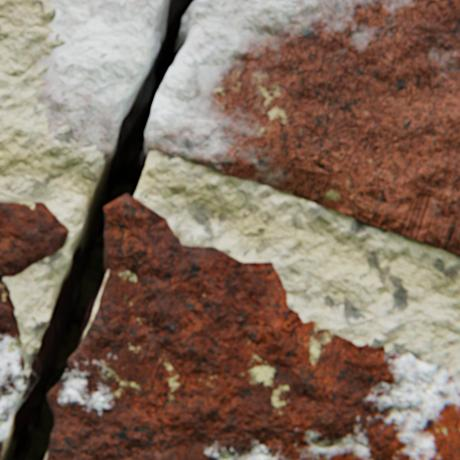broken_brick: (47, 194, 459, 459), (145, 0, 459, 255), (37, 0, 162, 156), (0, 202, 69, 458)
crack: (0, 0, 197, 459)
